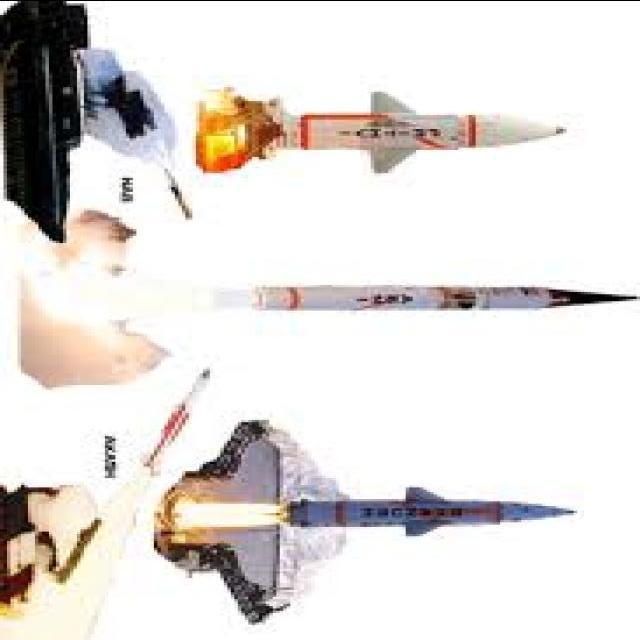Missile: (247, 75, 577, 182), (238, 266, 640, 316), (262, 484, 584, 544), (131, 365, 233, 474)
